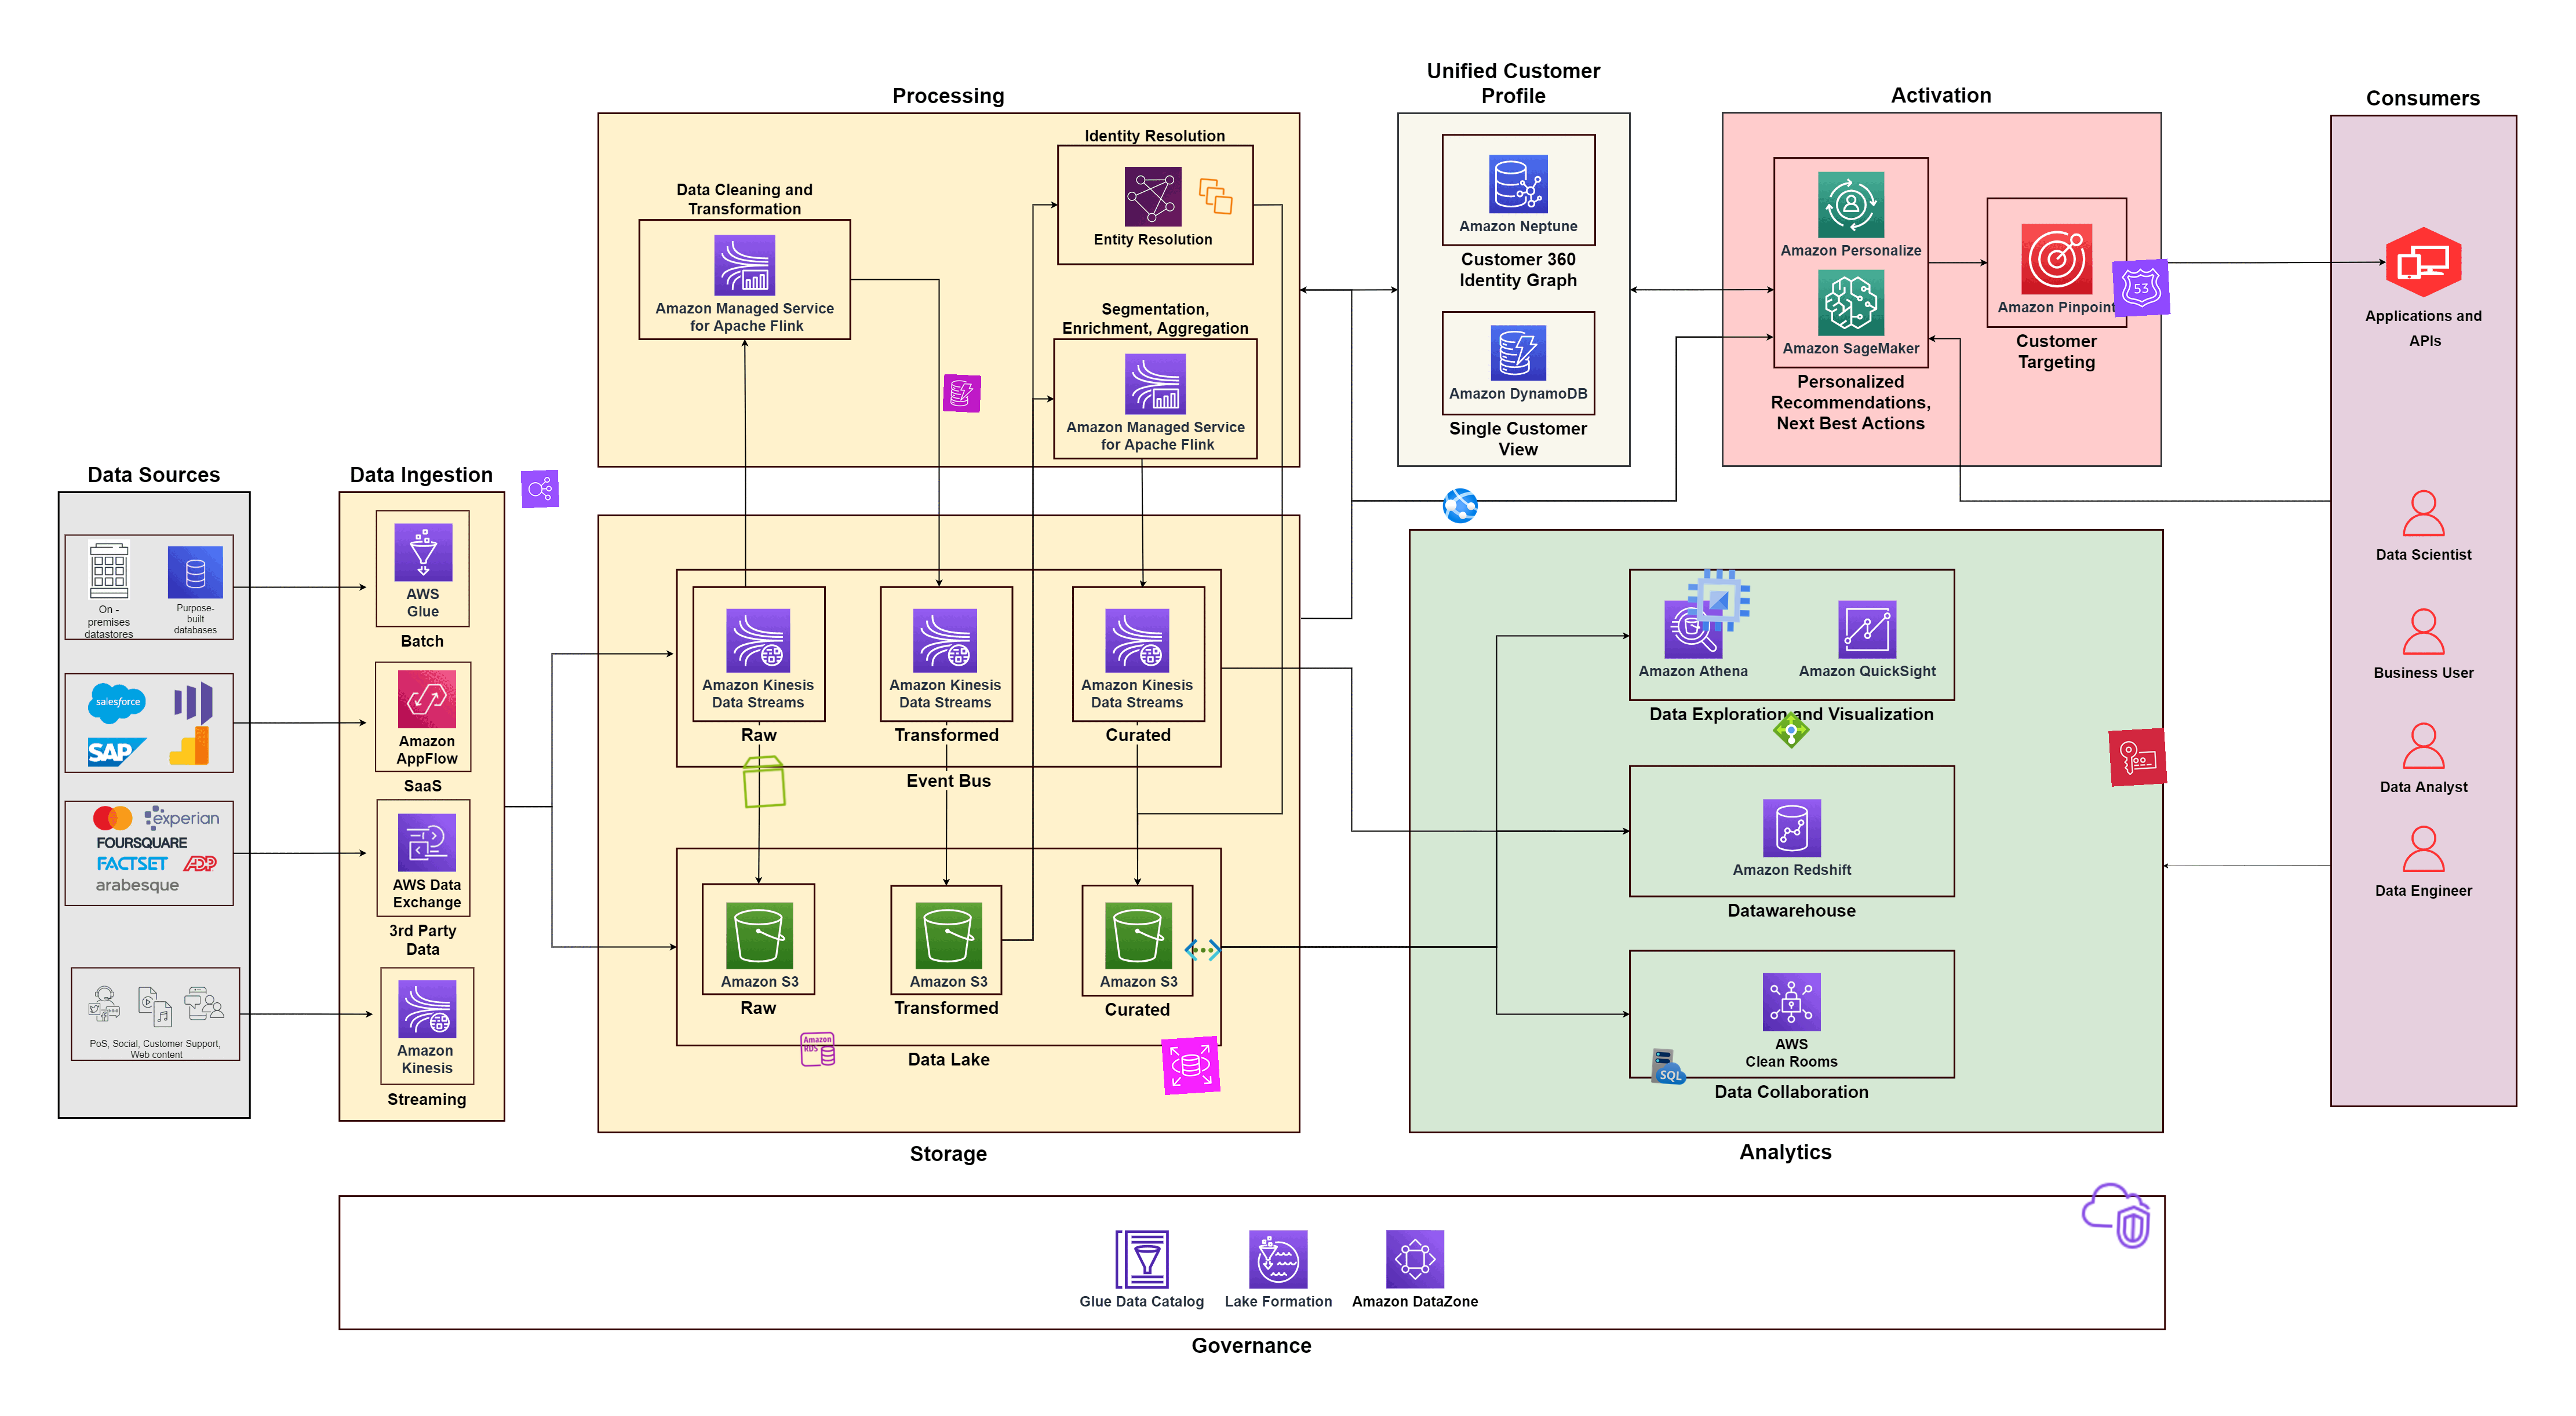aws_amazon_dynamodb: (942, 373, 982, 413)
aws_amazon_rds: (1162, 1036, 1221, 1095)
aws_amazon_route_53: (2112, 258, 2171, 317)
aws_aurora_amazon_rds_instance: (799, 1029, 837, 1069)
aws_ec2_instances: (1196, 176, 1237, 216)
aws_elastic_block_store_volume: (734, 752, 795, 811)
aws_elastic_load_balancing: (520, 469, 560, 509)
aws_key_management_service: (2109, 727, 2168, 786)
aws_vpc_virtual_private_cloud_vpc: (2077, 1177, 2154, 1254)
azure_app_services: (1441, 487, 1479, 525)
azure_load_balancers: (1772, 711, 1810, 750)
azure_sql_managed_instance: (1650, 1046, 1690, 1086)
azure_virtual_networks: (1184, 931, 1223, 970)
gcp_compute_engine: (1681, 562, 1756, 638)
